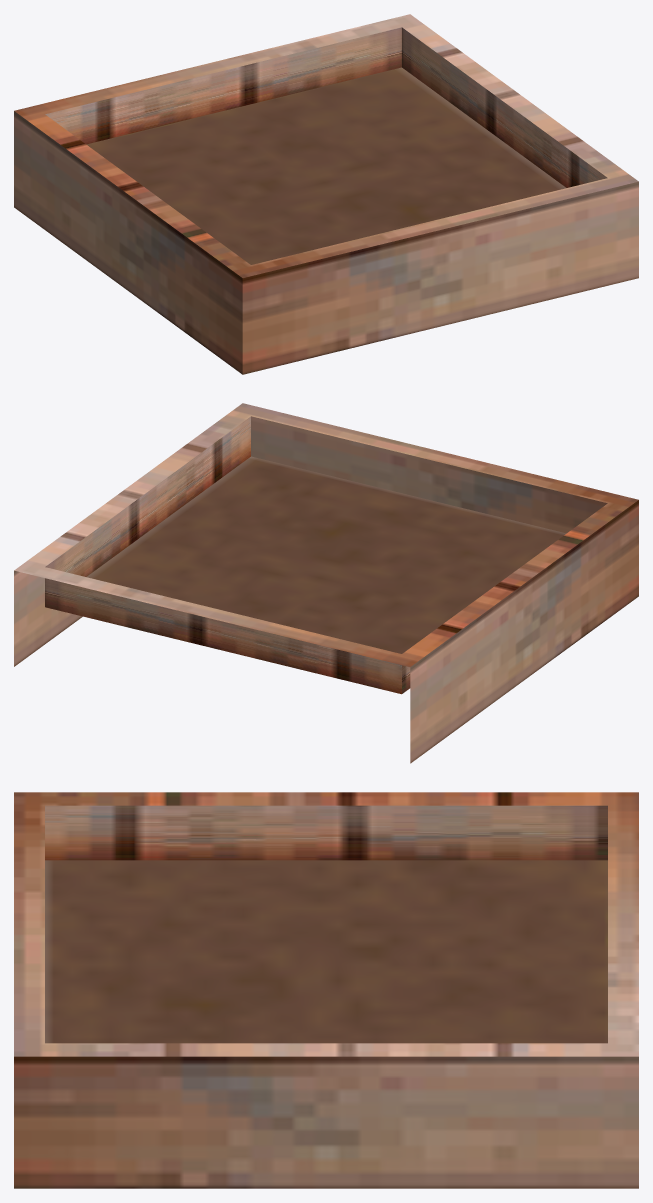
The model's file is PotatoSpawner.fbx.
3 views of the same model, one above another, from view 1: azimuth 30°, elevation 25°; view 2: azimuth 150°, elevation 25°; view 3: azimuth 270°, elevation 25° (orthographic). The views are drawn at different scales.
Visible parts, largest first — view 1: Tree; view 2: Tree; view 3: Tree.
Part boxes in pixels (bbox=[...]): Tree: bbox=[14, 14, 638, 374]; Tree: bbox=[14, 403, 638, 763]; Tree: bbox=[14, 792, 638, 1188].
Size of the model in its own units: 200 by 46.58 by 200.
